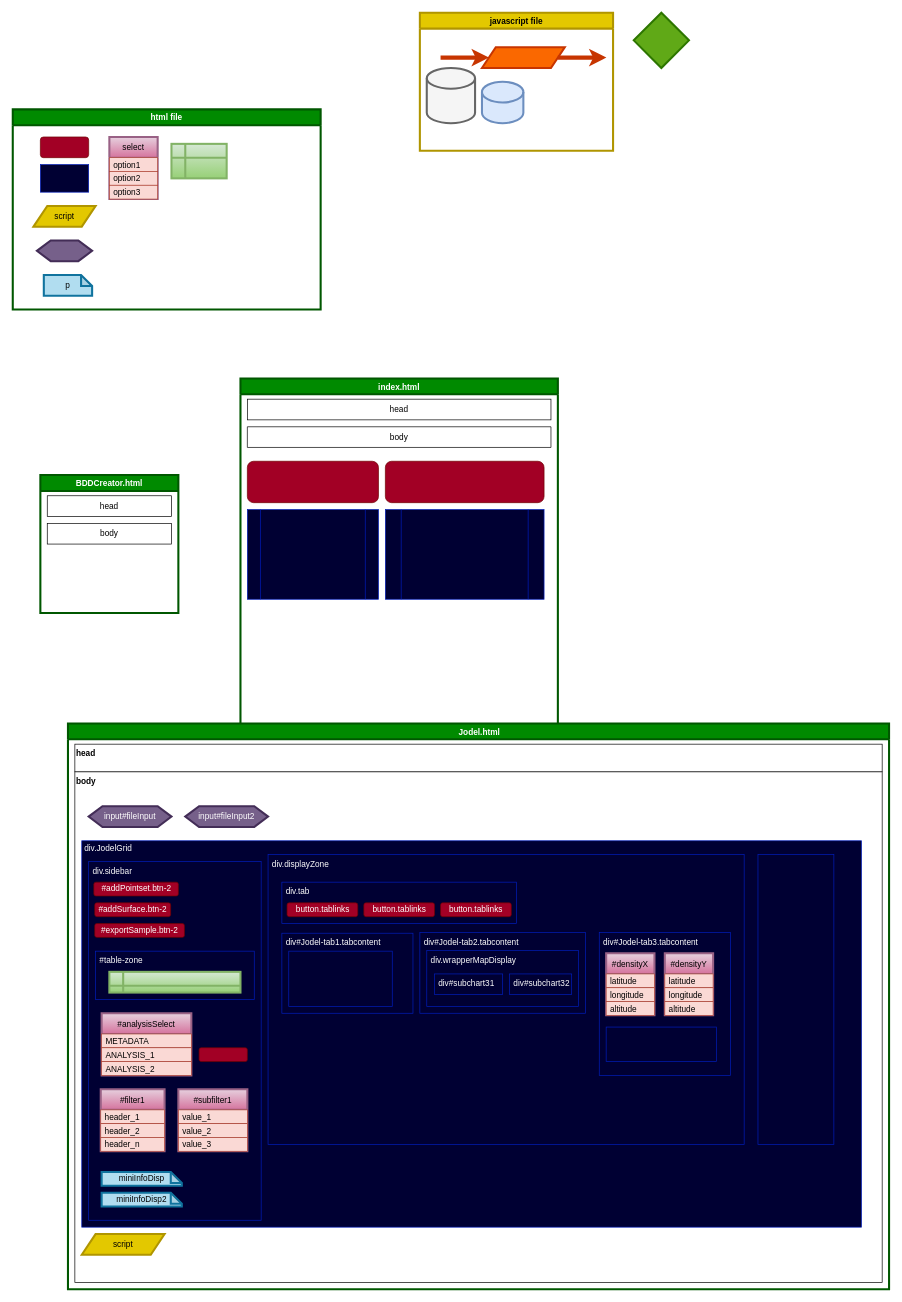
This 902x1302 diagram has some shape labels left out. The centre of each missing label's shape, as x and y in pixels:
#file_table.fl-table: pixel 174 981
button: pixel 64 147
buttonBDDCreator.mainTabLink: pixel 312 482
buttonJODEL.mainTablink: pixel 464 482
dexie database: pixel 450 95
dexie store: pixel 502 102
div: pixel 64 178
div#BDDCreator.mainTabContent: pixel 464 554
div#chart1: pixel 340 978
div#chart2: pixel 661 1044
div#Jodel.mainTabContent: pixel 312 554
div.ParameterBar: pixel 795 999
function: pixel 523 57
If: pixel 661 40
input: pixel 64 250
selectAll: pixel 222 1054
table: pixel 198 160
